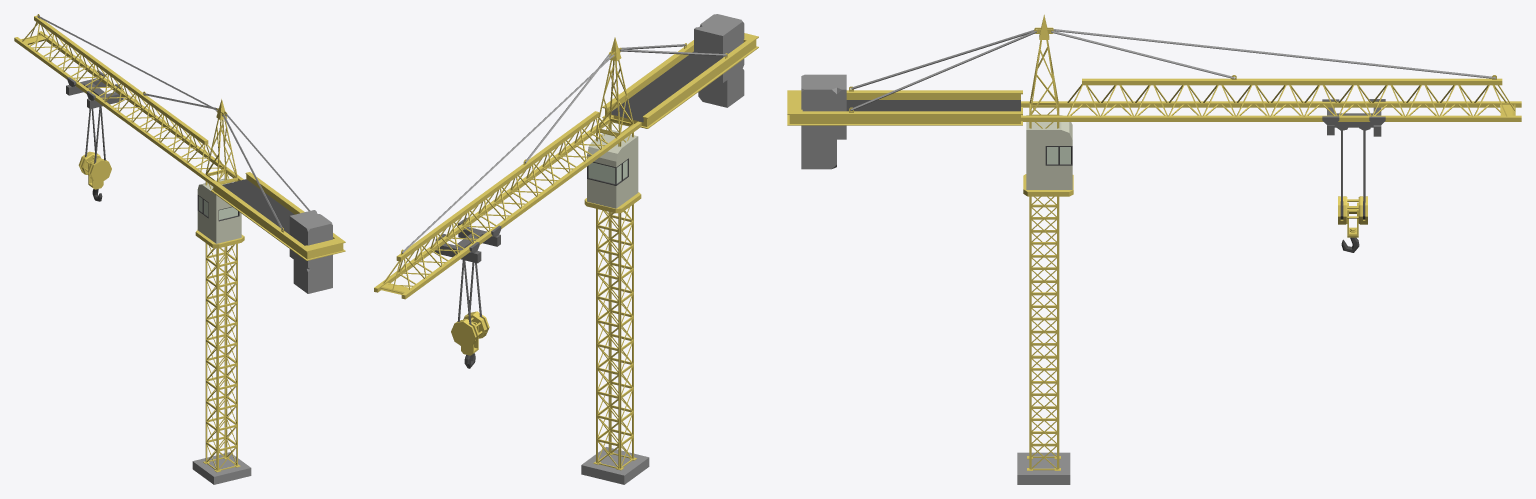
Rendered from crane.glb.
The picture shows the model from 3 angles, left to right: view 1: azimuth 30°, elevation 25°; view 2: azimuth 150°, elevation 25°; view 3: azimuth 270°, elevation 25°; orthographic projection. The views are drawn at different scales.
Parts seen in each view (by area): view 1: Cube.001, Crane_Cylinder; view 2: Cube.001, Crane_Cylinder; view 3: Cube.001, Crane_Cylinder.
Part boxes in pixels (left/top/right/bottom): Cube.001: left=14, top=14, right=345, bottom=472; Crane_Cylinder: left=37, top=15, right=332, bottom=484; Cube.001: left=374, top=33, right=758, bottom=470; Crane_Cylinder: left=402, top=14, right=744, bottom=484; Cube.001: left=787, top=14, right=1521, bottom=470; Crane_Cylinder: left=801, top=29, right=1495, bottom=484.
Size of the model in its own units: 1.6 by 14.61 by 21.13.
